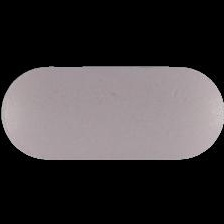10544-144: (0, 0, 224, 224)
